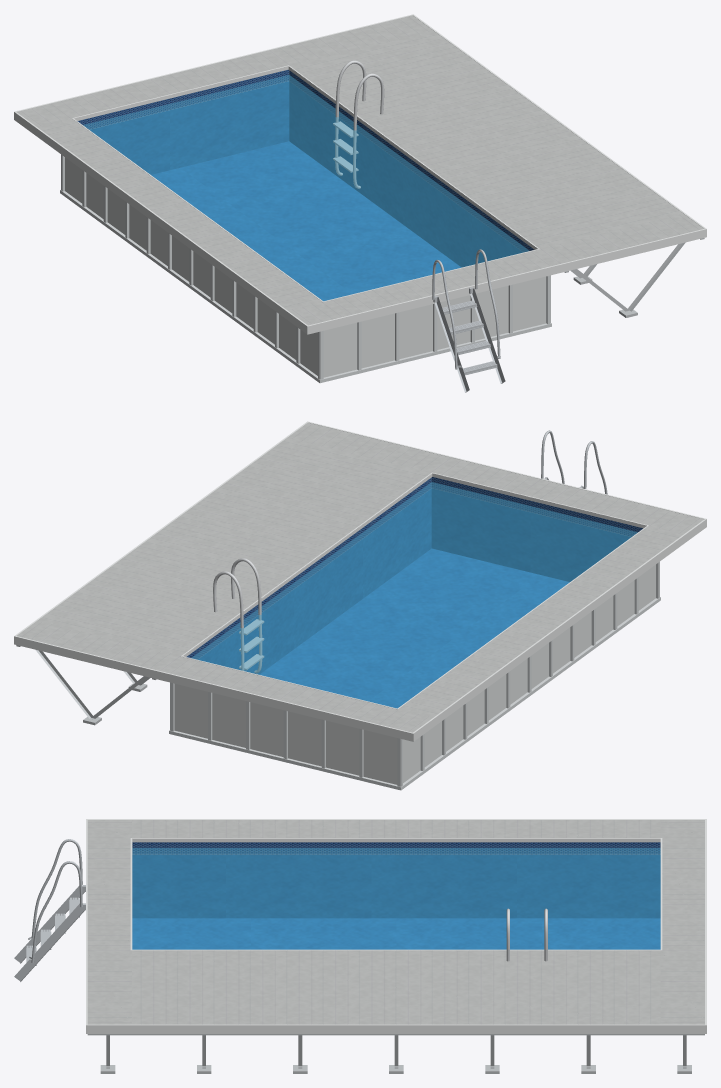
The model's file is kayak-pool-12x24-white-side-ag-nofence.36d3128a26.glb.
The picture shows the model from 3 angles, top to bottom: view 1: azimuth 30°, elevation 25°; view 2: azimuth 150°, elevation 25°; view 3: azimuth 270°, elevation 25°; orthographic projection. The views are drawn at different scales.
Visible parts, largest first — view 1: deck, water, liner_wall, liner_floor, wall, fascia, upright, ladder, steel, stud; view 2: deck, water, liner_wall, liner_floor, wall, fascia, upright, steel, stud, ladder; view 3: deck, water, liner_wall, liner_floor, fascia, stud, ladder, steel.
Part boxes in pixels (x1,y1,x2,y2): deck: [17, 15, 703, 325]; water: [83, 75, 529, 300]; liner_wall: [77, 69, 534, 267]; liner_floor: [151, 141, 461, 300]; wall: [65, 157, 546, 377]; fascia: [14, 14, 706, 334]; upright: [60, 154, 551, 383]; ladder: [432, 249, 505, 392]; steel: [333, 60, 384, 188]; stud: [564, 238, 704, 317]; deck: [17, 422, 703, 732]; water: [191, 482, 637, 708]; liner_wall: [187, 477, 642, 674]; liner_floor: [259, 548, 569, 708]; wall: [174, 564, 655, 784]; fascia: [14, 421, 706, 741]; upright: [169, 562, 660, 790]; steel: [213, 558, 264, 673]; stud: [16, 645, 156, 725]; ladder: [541, 430, 607, 494]; deck: [87, 820, 704, 1024]; water: [132, 848, 660, 949]; liner_wall: [132, 842, 660, 918]; liner_floor: [132, 918, 660, 949]; fascia: [86, 819, 706, 1033]; stud: [87, 1034, 704, 1073]; ladder: [14, 839, 85, 981]; steel: [506, 908, 547, 961].
Bounding box in the file's own units: 6.71 × 1.9 × 9.52.
Materials: 10 (3 with a texture image).
